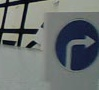right: (55, 20, 99, 70)
